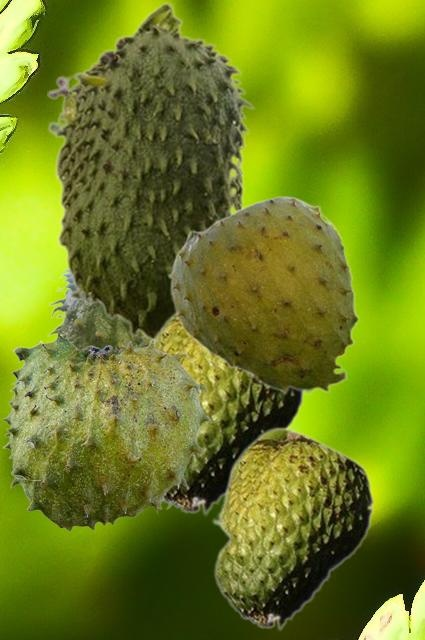guyabano: (47, 0, 254, 343), (1, 330, 211, 530), (166, 195, 359, 396), (211, 426, 374, 631), (148, 312, 306, 516), (46, 268, 171, 509)
